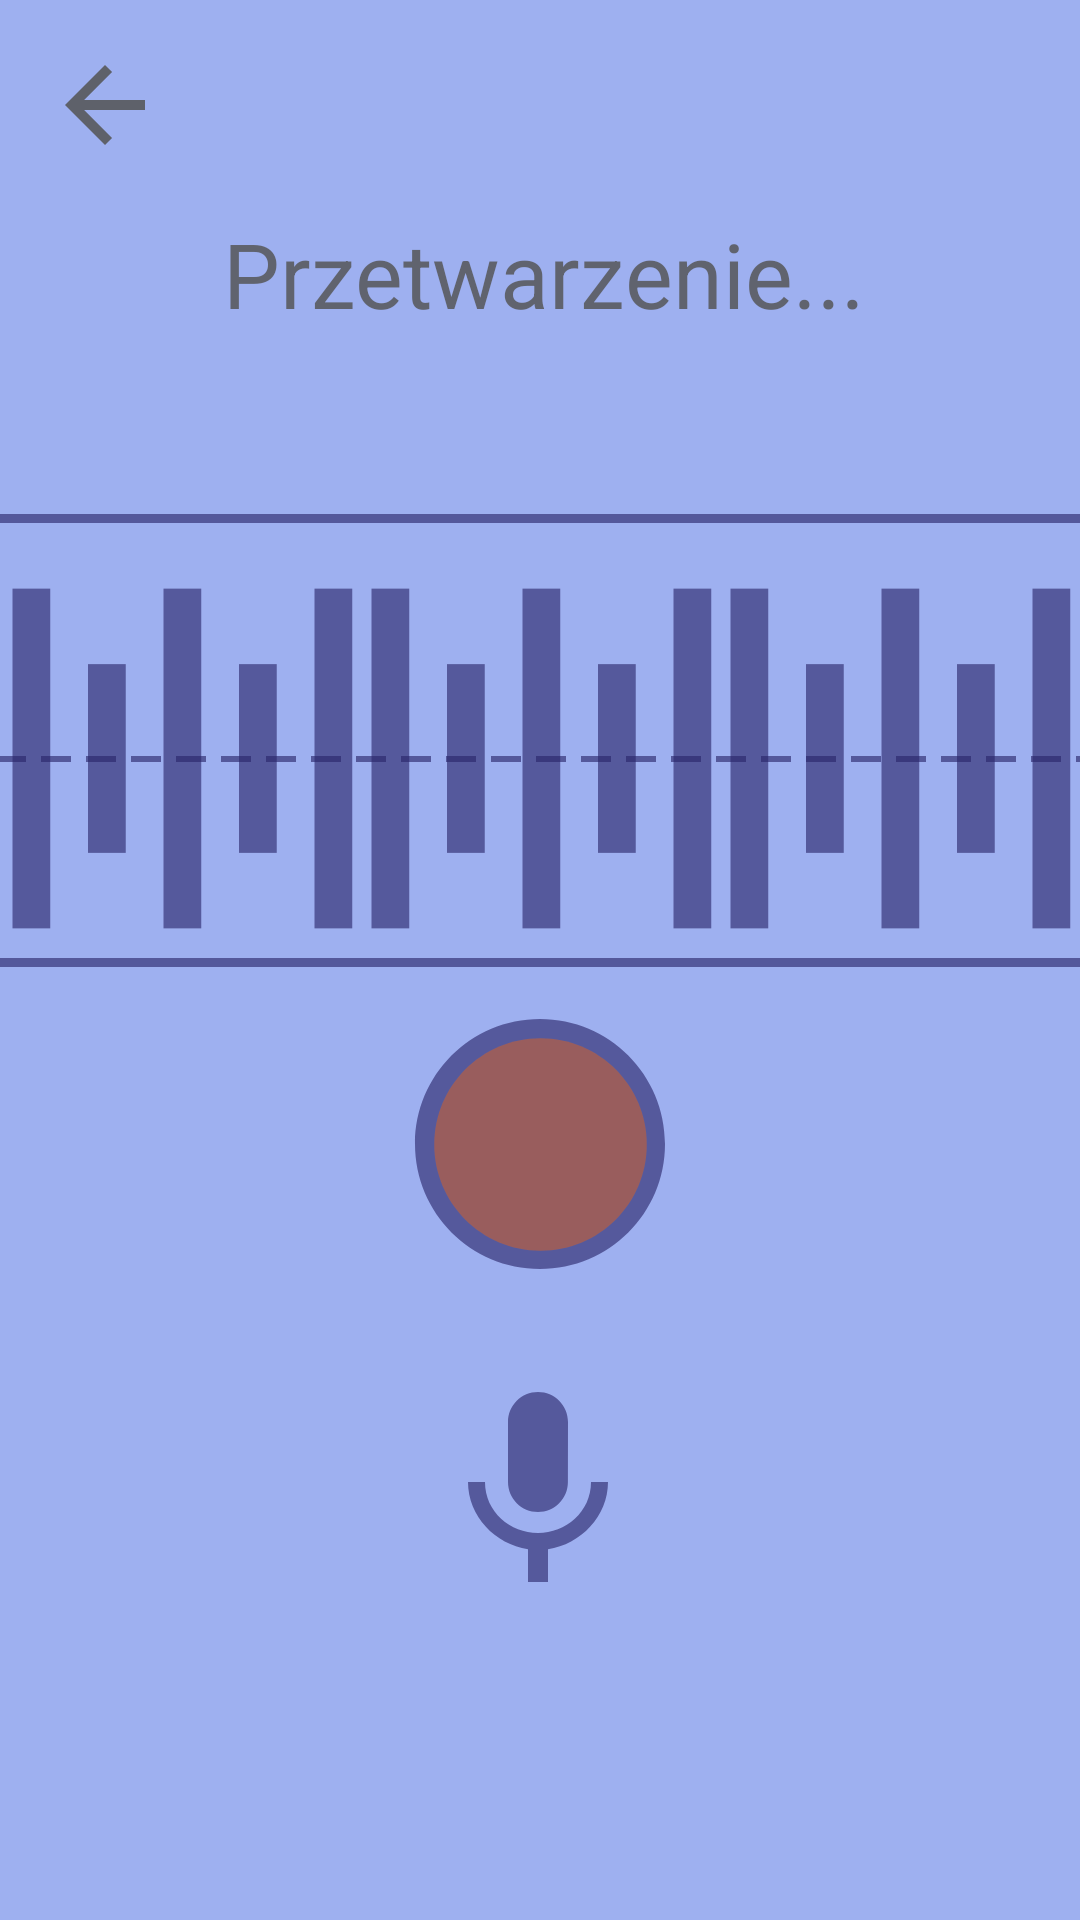

Named icons in this screenshot (1080 x 1920) and their bounding boxes, (x1, y1, x2, y2):
arrow back: (65, 65, 145, 145)
microphone: (468, 1392, 608, 1582)
